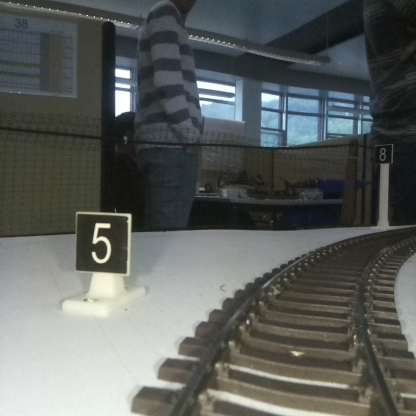black-info-8: (375, 143, 392, 226)
black-stop-5: (76, 216, 127, 309)
